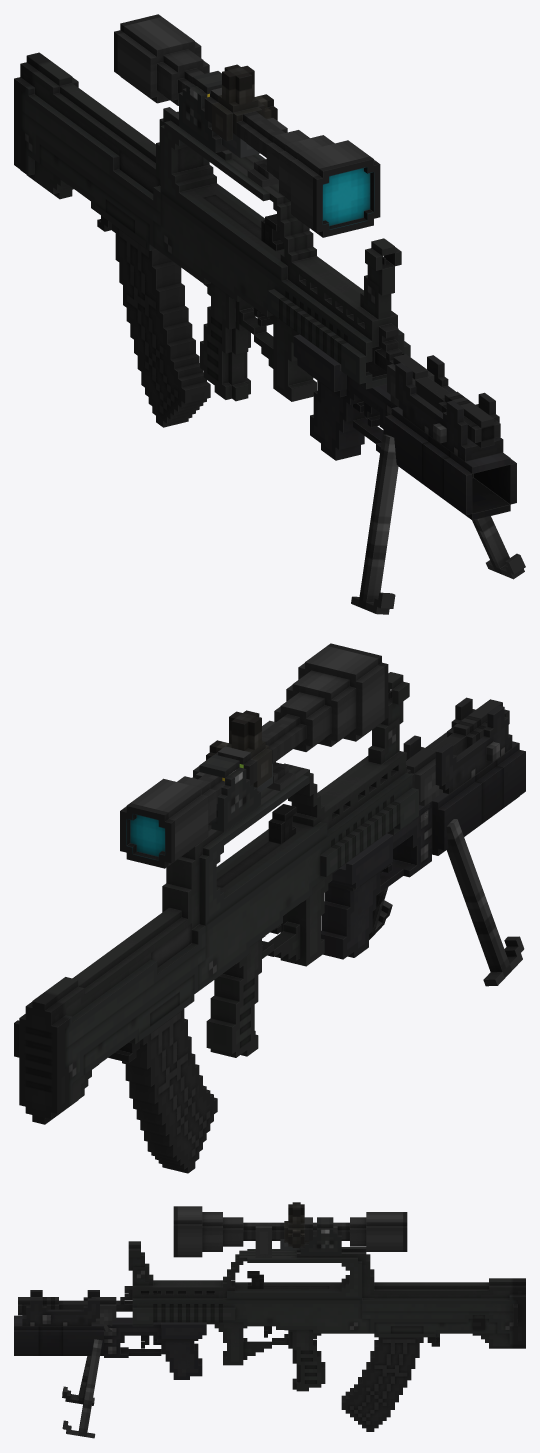
File: RD_QBZ95_A12.glb
The picture shows the model from 3 angles, top to bottom: view 1: azimuth 30°, elevation 25°; view 2: azimuth 150°, elevation 25°; view 3: azimuth 270°, elevation 25°; orthographic projection. The views are drawn at different scales.
Visible parts, largest first — view 1: QBZ95, SCOPE_SCHMIDT_BENDER, GP_GP30, QBZ95_CLIP, DIPOD1_LEG1, SCOPE_EOTECH, DIPOD1_LEG2, DIPOD1_BODY; view 2: QBZ95, SCOPE_SCHMIDT_BENDER, GP_GP30, QBZ95_CLIP, DIPOD1_LEG1, SCOPE_EOTECH, DIPOD1_BODY, QBZ95_BOLT, SCOPE_AIMPOINT; view 3: QBZ95, GP_GP30, SCOPE_SCHMIDT_BENDER, QBZ95_CLIP, SCOPE_EOTECH, DIPOD1_LEG2, DIPOD1_BODY, DIPOD1_LEG1, QBZ95_BOLT.
Boxes of the visible parts, x1,y1,x2,y2 form: QBZ95: (14,52,500,448); SCOPE_SCHMIDT_BENDER: (114,14,380,237); GP_GP30: (293,334,516,520); QBZ95_CLIP: (112,223,210,427); DIPOD1_LEG1: (351,434,398,614); SCOPE_EOTECH: (179,71,259,158); DIPOD1_LEG2: (472,516,525,579); DIPOD1_BODY: (387,354,434,414); QBZ95: (14,672,509,1124); SCOPE_SCHMIDT_BENDER: (120,643,388,868); GP_GP30: (321,697,525,959); QBZ95_CLIP: (122,1009,217,1173); DIPOD1_LEG1: (446,819,524,986); SCOPE_EOTECH: (192,754,272,831); DIPOD1_BODY: (406,748,442,818); QBZ95_BOLT: (268,804,296,844); SCOPE_AIMPOINT: (215,746,257,785); QBZ95: (18,1241,525,1391); GP_GP30: (14,1290,206,1379); SCOPE_SCHMIDT_BENDER: (173,1202,407,1257); QBZ95_CLIP: (341,1337,423,1431); SCOPE_EOTECH: (280,1217,341,1255); DIPOD1_LEG2: (62,1339,102,1438); DIPOD1_BODY: (91,1297,116,1335); DIPOD1_LEG1: (62,1356,94,1405); QBZ95_BOLT: (247,1271,263,1289).
Size of the model in its own units: 0.2316 by 0.5904 by 1.23.
8 materials, 8 textured.
